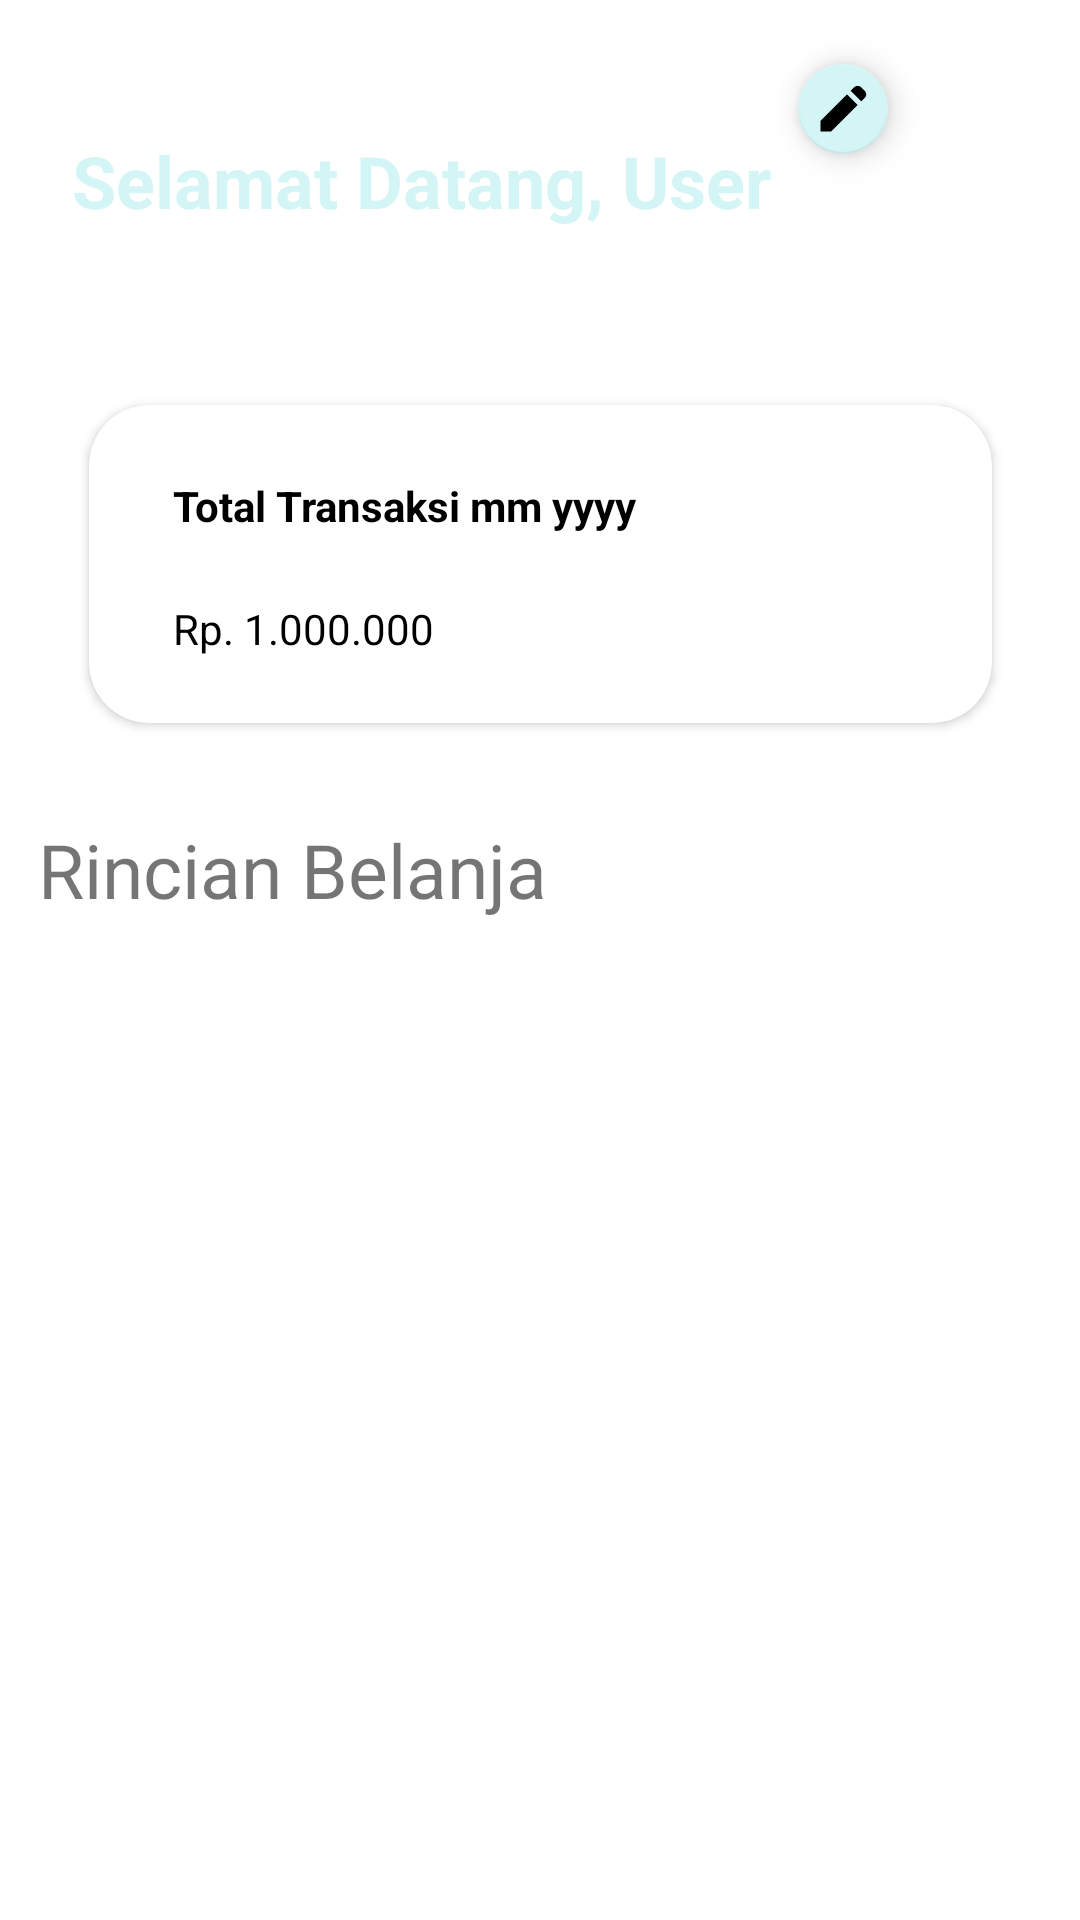

Point at icon controls on the screen. Image size 1080×1920, points as (x=x, y=y).
edit: (x=844, y=109)
